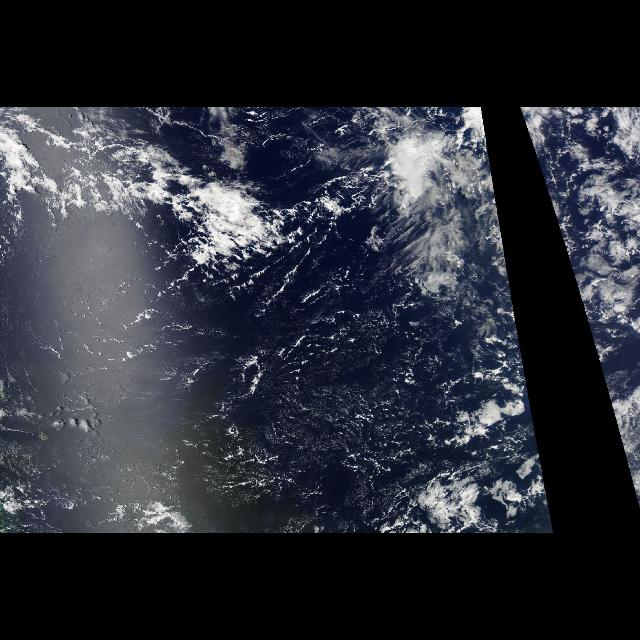Fish: (35, 120, 445, 314)
Gravel: (49, 312, 553, 516)
